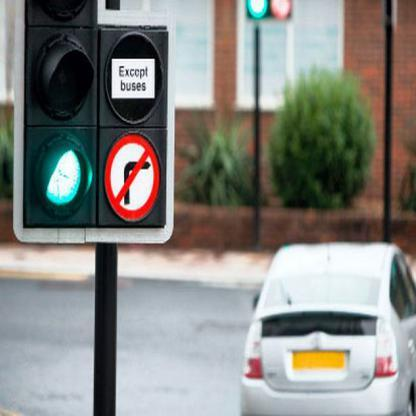Green Light: (18, 0, 100, 243)
